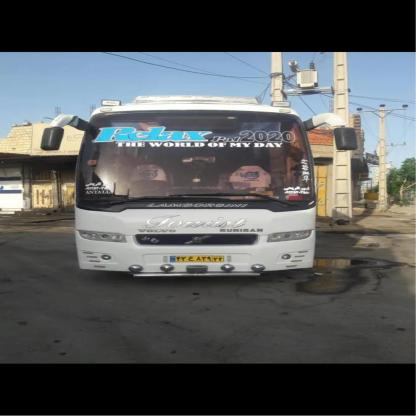Bus: (47, 101, 358, 284)
